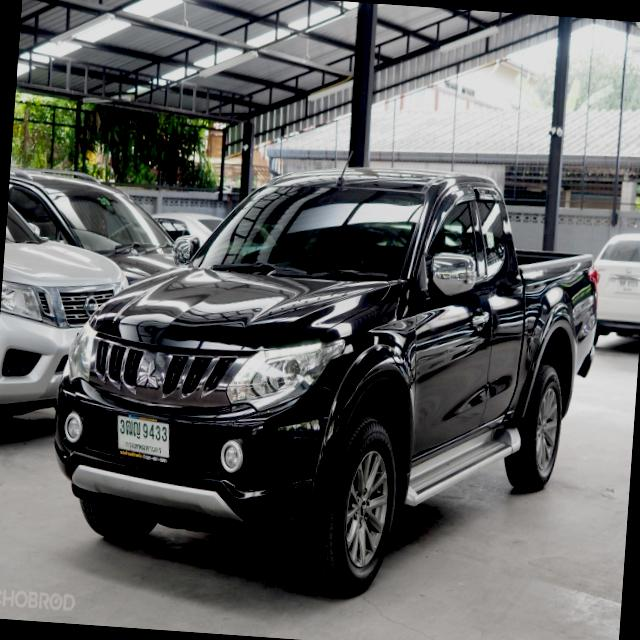license_plate: (110, 409, 176, 468), (615, 274, 640, 296)
